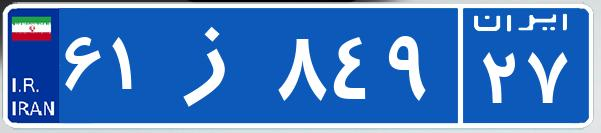1: (110, 28, 158, 105)
2: (475, 38, 525, 113)
4: (330, 28, 385, 110)
6: (57, 26, 110, 107)
7: (525, 38, 570, 115)
8: (273, 28, 330, 110)
9: (385, 28, 445, 110)
ز: (158, 15, 273, 115)
